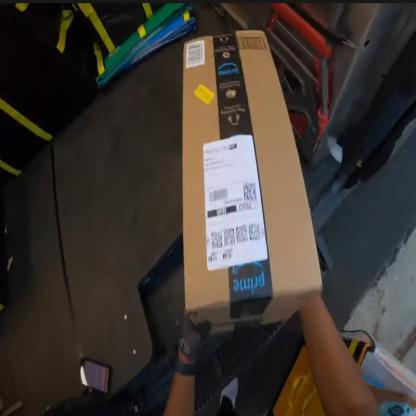package: (182, 27, 325, 344)
